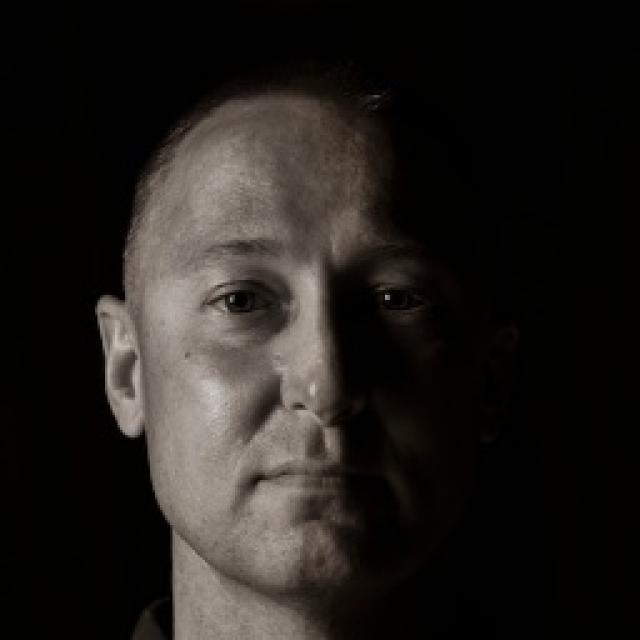no-glasses: (172, 254, 452, 348)
